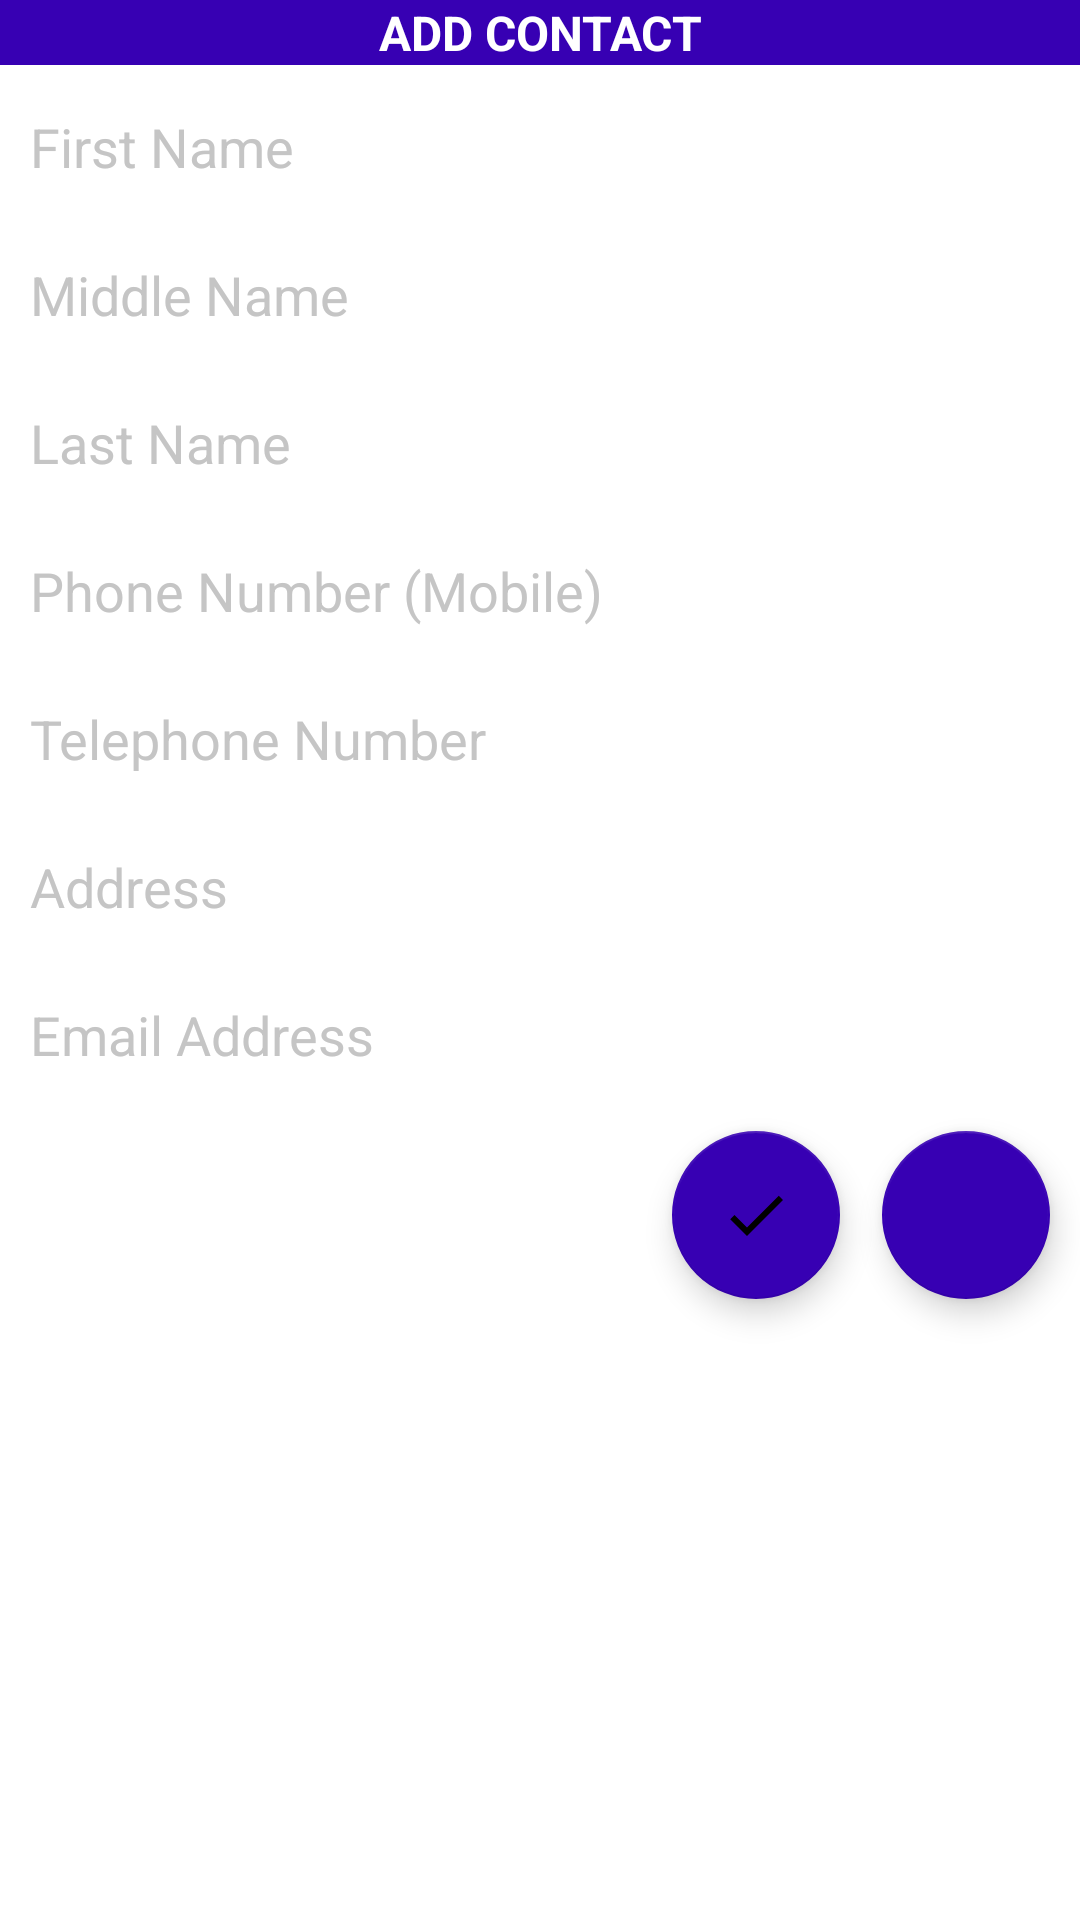

Point at icon controls on the screen. Image size 1080×1920, points as [x,y].
check: [756,1215]
